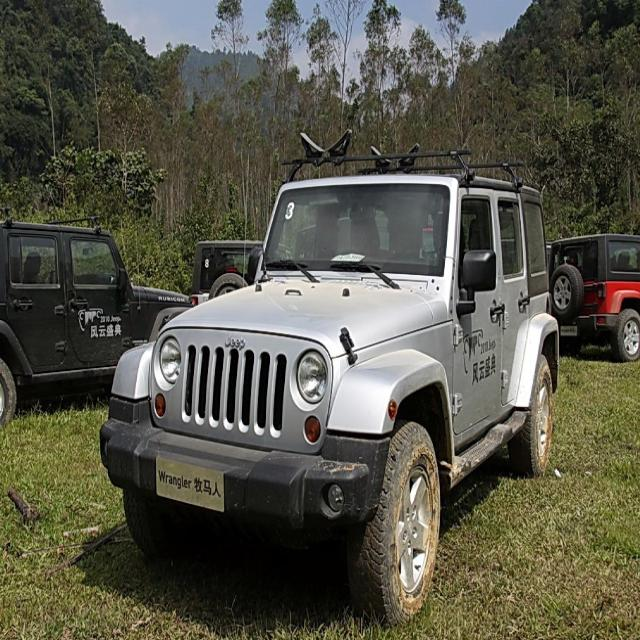door: (494, 197, 534, 416)
front_bumper: (99, 388, 390, 534)
front_glass: (263, 180, 452, 280)
front_left_side_door: (452, 188, 504, 439)
front_left_side_light: (295, 347, 330, 409)
front_left_side_mirror: (458, 245, 498, 315)
front_right_side_light: (153, 334, 184, 386)
wheel: (358, 428, 441, 616), (510, 362, 554, 476)
